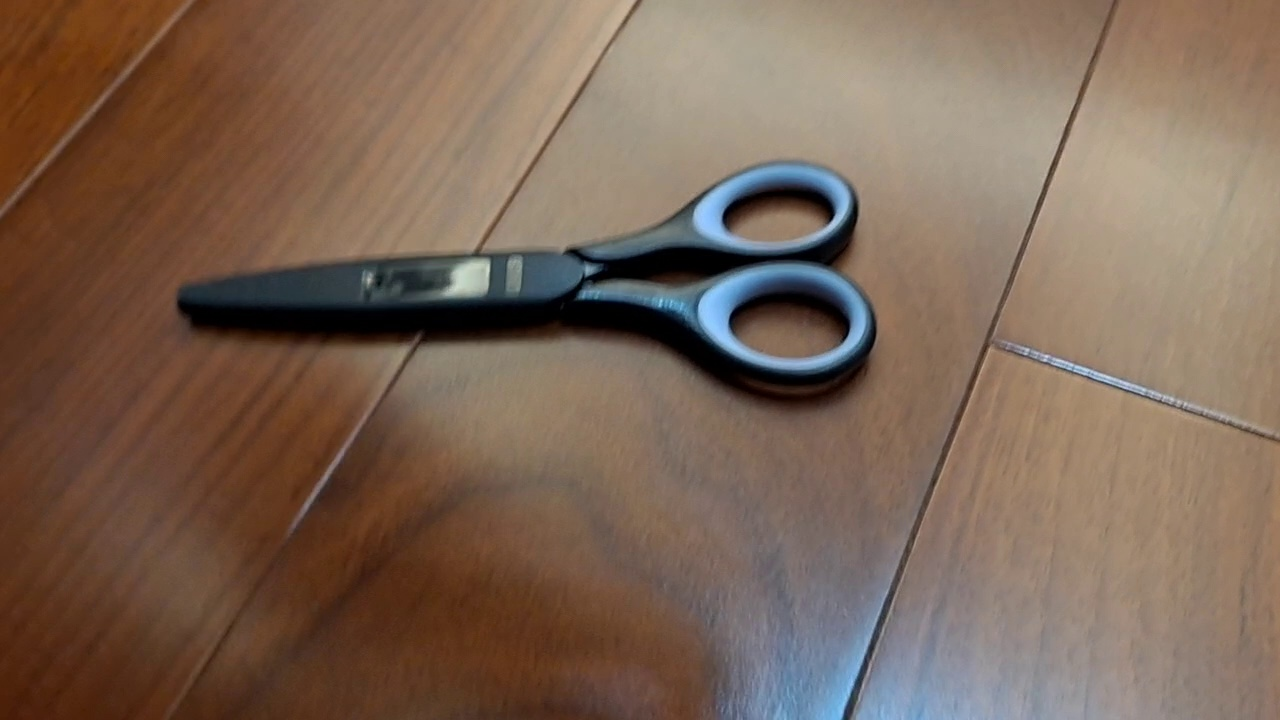scissors: (174, 156, 878, 390)
